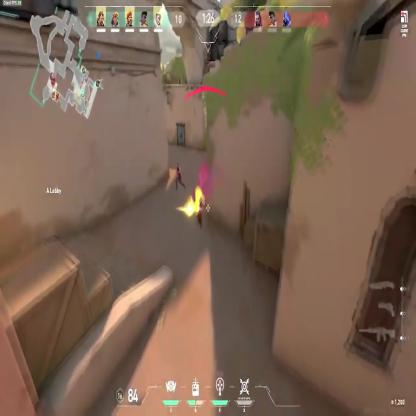enemy: (174, 162, 182, 190), (197, 195, 204, 226)
enemy_head: (199, 196, 203, 204), (177, 162, 179, 166)
